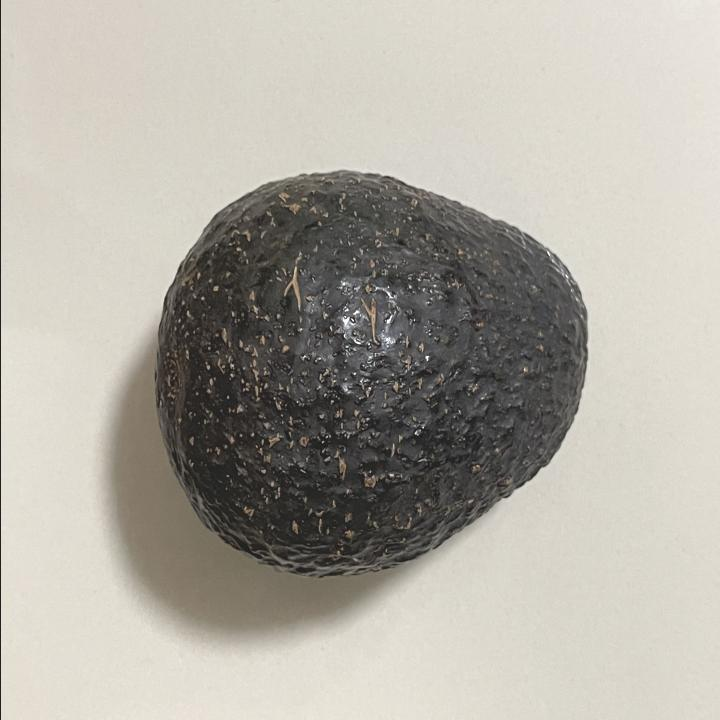Level3: (145, 159, 597, 589)
